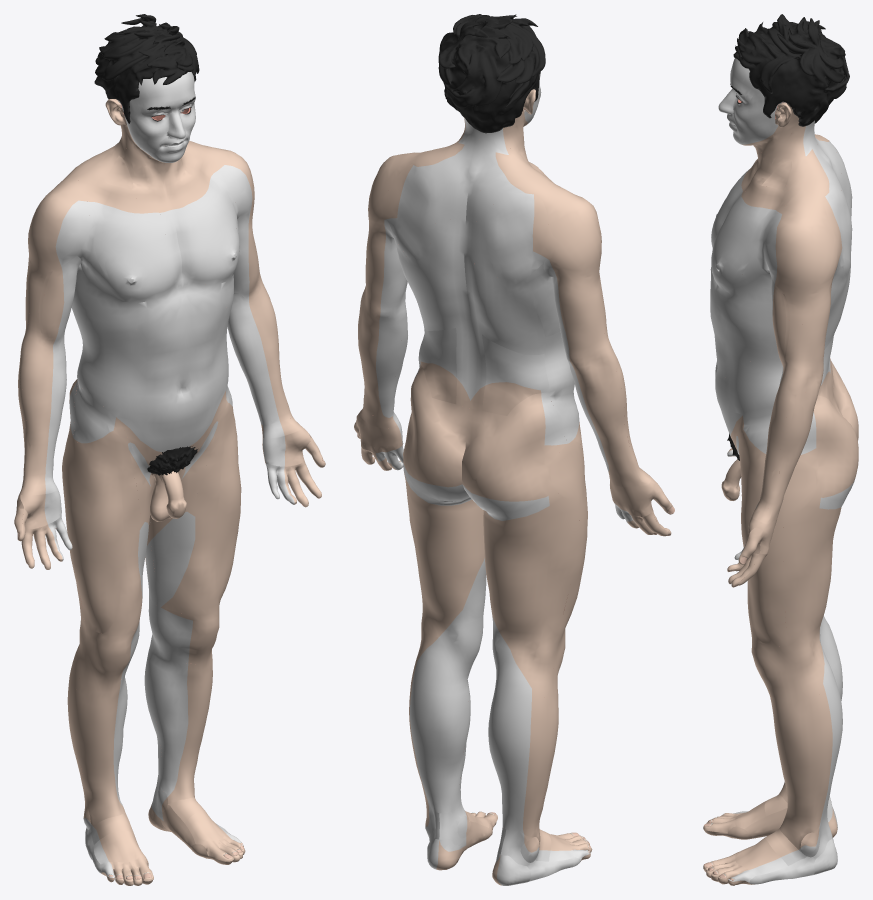
File: skin.glb
3 views of the same model, side by side, from view 1: azimuth 30°, elevation 25°; view 2: azimuth 150°, elevation 25°; view 3: azimuth 270°, elevation 25° (orthographic). The views are drawn at different scales.
Parts seen in each view (by area): view 1: Anterior region of thigh R, Anterior region of thigh L, Hairs of head, Anterior region of leg L, Anterior region of leg R, Pectoral region R, Deltoid region R, Anterior region of forearm L, Anterior region of forearm R, Lateral region of thorax R, Lateral region of abdomen R, Pectoral region L (+46 smaller); view 2: Posterior region of thigh R, Hairs of head, Gluteal region R, Posterior region of thigh L, Posterior region of leg R, Posterior region of leg L, Gluteal region L, Scapular region R, Posterior region of arm R, Infrascapular region R, Scapular region L, Posterior region of forearm R (+32 smaller); view 3: Hairs of head, Anterior region of thigh L, Posterior region of thigh L, Deltoid region L, Gluteal region L, Posterior region of leg L, Lateral region of thorax L, Anterior region of leg L, Lateral region of abdomen L, Pectoral region L, Posterior region of arm L, Posterior region of neck L (+45 smaller).
Boxes of the visible parts, box(x1,y1,x2,y2) form: Anterior region of thigh R: box(69, 382, 154, 636); Anterior region of thigh L: box(150, 383, 241, 615); Hairs of head: box(94, 14, 199, 123); Anterior region of leg L: box(153, 654, 212, 780); Anterior region of leg R: box(74, 674, 127, 799); Pectoral region R: box(94, 205, 174, 302); Deltoid region R: box(28, 174, 90, 271); Anterior region of forearm L: box(228, 304, 292, 425); Anterior region of forearm R: box(22, 360, 66, 481); Lateral region of thorax R: box(71, 225, 147, 333); Lateral region of abdomen R: box(77, 342, 147, 422); Pectoral region L: box(183, 179, 238, 284); Posterior region of thigh R: box(483, 496, 579, 640); Hairs of head: box(438, 14, 545, 133); Gluteal region R: box(462, 392, 567, 518); Posterior region of thigh L: box(404, 472, 485, 624); Posterior region of leg R: box(488, 688, 555, 830); Posterior region of leg L: box(409, 667, 468, 813); Gluteal region L: box(403, 360, 470, 501); Scapular region R: box(486, 191, 559, 287); Posterior region of arm R: box(543, 242, 606, 348); Infrascapular region R: box(475, 273, 545, 354); Scapular region L: box(379, 164, 436, 266); Posterior region of forearm R: box(570, 368, 640, 475); Hairs of head: box(733, 14, 849, 126); Anterior region of thigh L: box(738, 407, 787, 646); Posterior region of thigh L: box(783, 506, 841, 645); Deltoid region L: box(763, 197, 834, 297); Gluteal region L: box(798, 395, 858, 509); Posterior region of leg L: box(798, 679, 842, 822); Lateral region of thorax L: box(715, 229, 846, 343); Anterior region of leg L: box(770, 696, 806, 822); Lateral region of abdomen L: box(723, 347, 782, 414); Pectoral region L: box(711, 197, 769, 291); Posterior region of arm L: box(799, 248, 839, 364); Posterior region of neck L: box(784, 120, 834, 199).
Size of the model in its own units: 0.6801 by 1.74 by 0.294.
